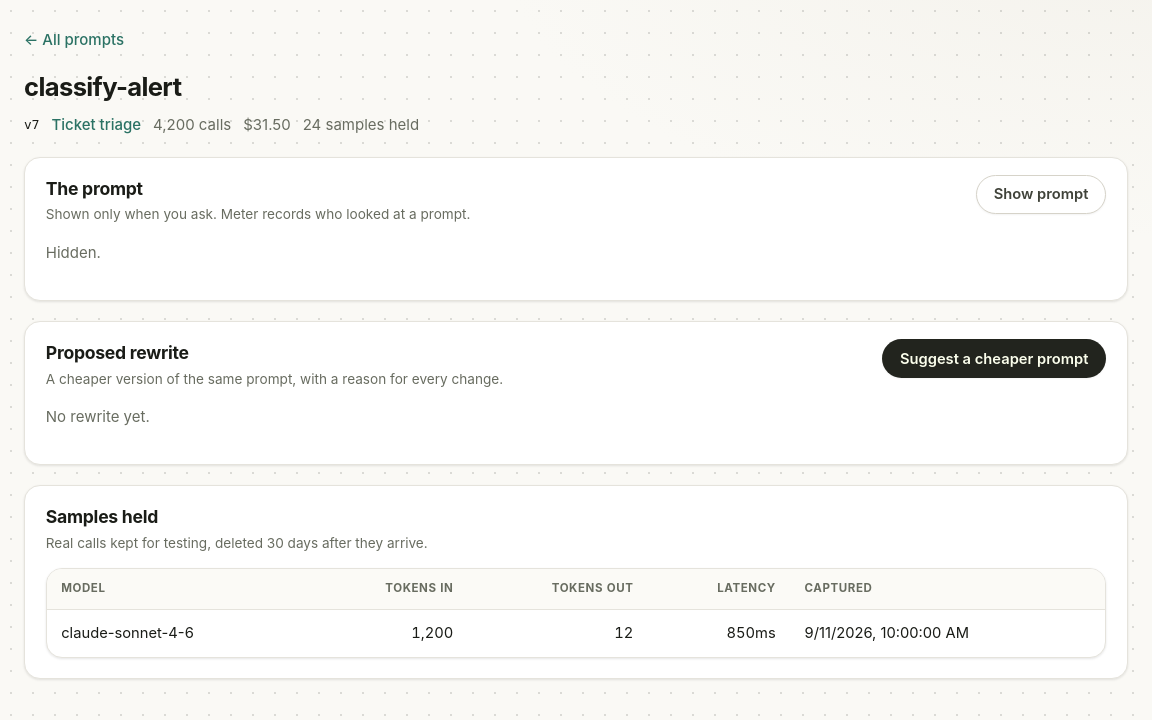
Test: Prompt detail › does not fetch the prompt text until someone asks
The image size is (1152, 720).
Expected: the heading "classify-alert" is shown, [24,71,181,102]
Expected: the text "Hidden." is shown, [46,243,101,262]
Click the button "Show prompt": click(1041, 194) [976,175,1106,214]
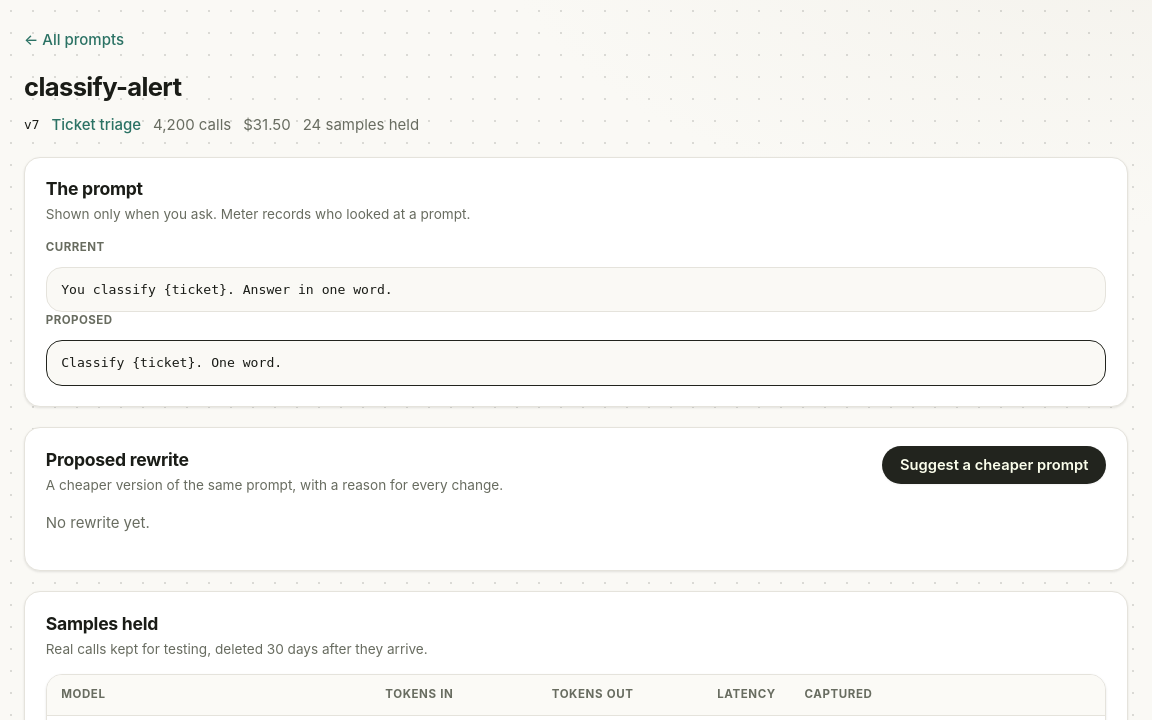
Result: the text "You classify {ticket}. Answer in one word." is shown at [46,267,1106,312]
